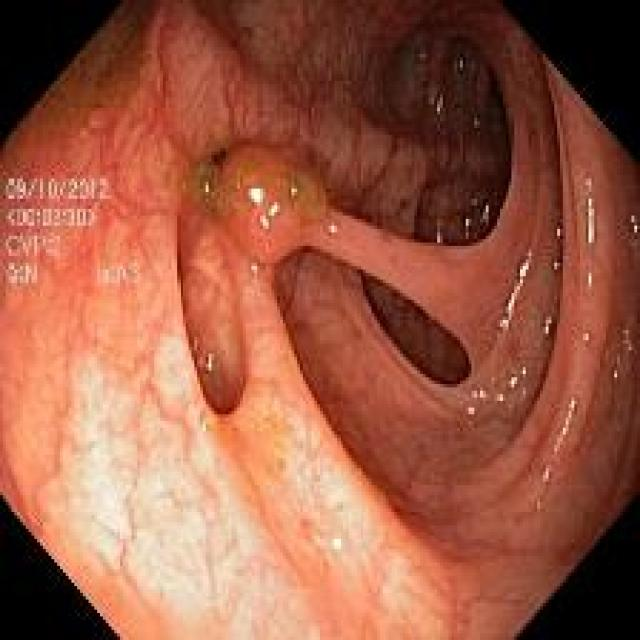Polyps: (202, 144, 330, 266)
